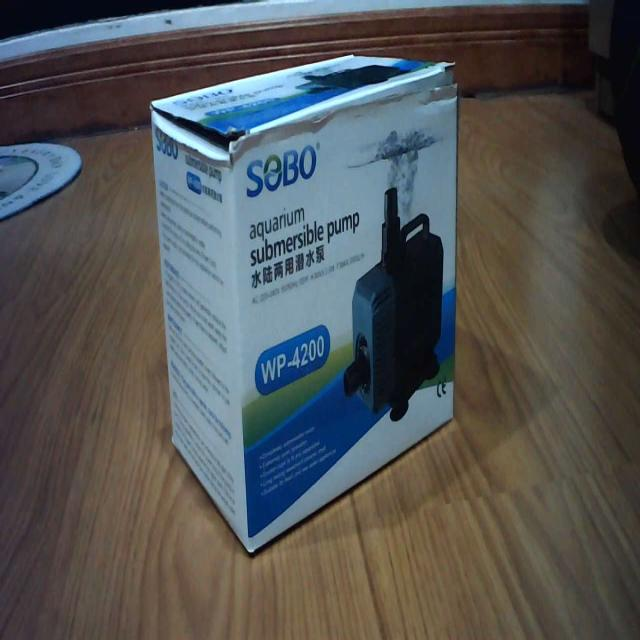SOBO_WP_4200: (144, 36, 476, 564)
